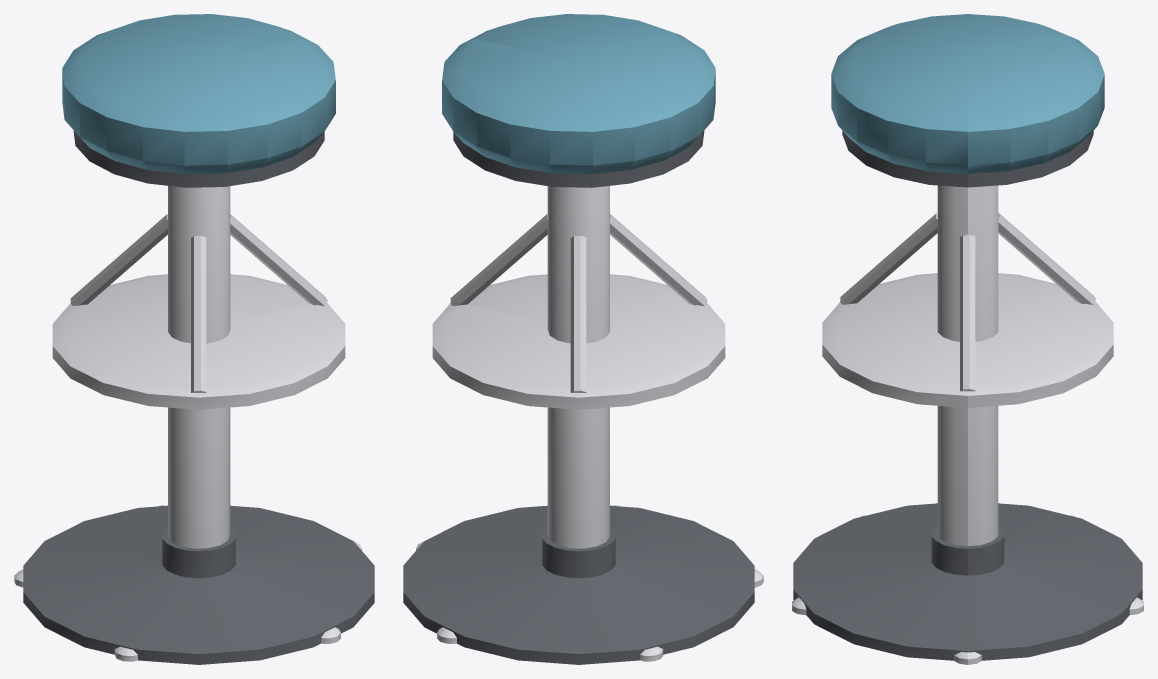
File: university-lecture-hall-and-campus-lab-stool-high-b3bd65ff__34755.glb
3 views of the same model, side by side, from view 1: azimuth 30°, elevation 25°; view 2: azimuth 150°, elevation 25°; view 3: azimuth 270°, elevation 25° (orthographic).
Parts seen in each view (by area): view 1: lab-stool-high; view 2: lab-stool-high; view 3: lab-stool-high.
Boxes of the visible parts, x1,y1,x2,y2 form: lab-stool-high: [14, 14, 374, 664]; lab-stool-high: [403, 14, 763, 664]; lab-stool-high: [792, 14, 1143, 664].
Size of the model in its own units: 0.49 by 0.78 by 0.4755.
